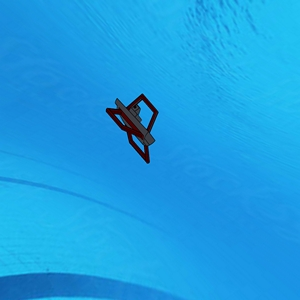submarine: (107, 93, 159, 159)
